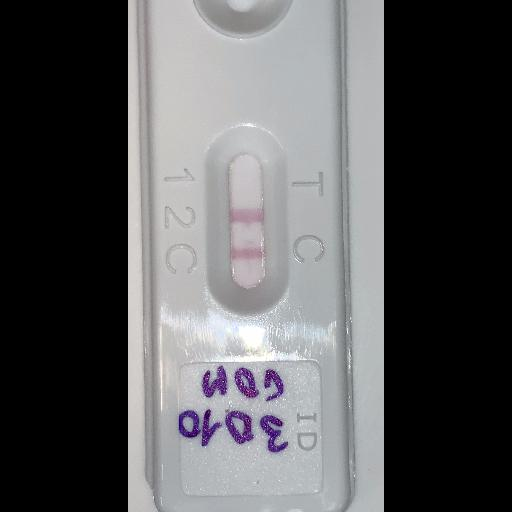Pos: (134, 0, 349, 511)
